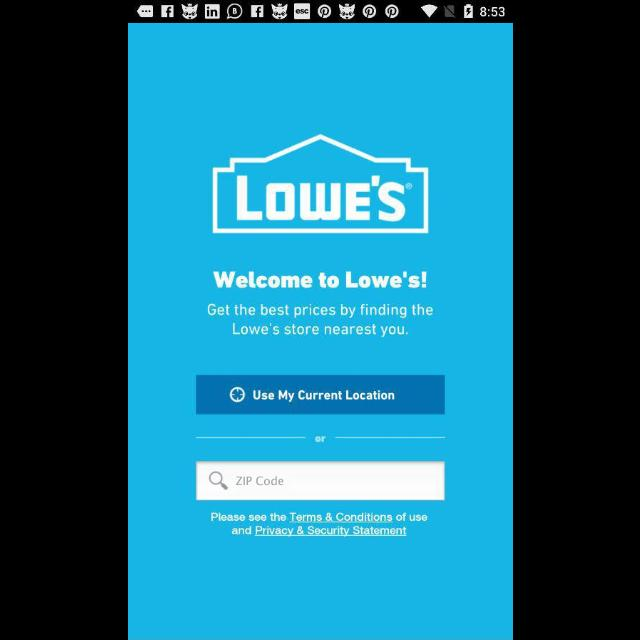icon: (208, 472, 228, 491)
image: (212, 134, 428, 234)
input: (196, 462, 444, 501)
text: (208, 304, 432, 338), (211, 512, 427, 536), (212, 270, 426, 290), (235, 476, 282, 486), (314, 435, 326, 443)
textbutton: (196, 376, 444, 414)
uppertaskbar: (128, 1, 512, 23)
